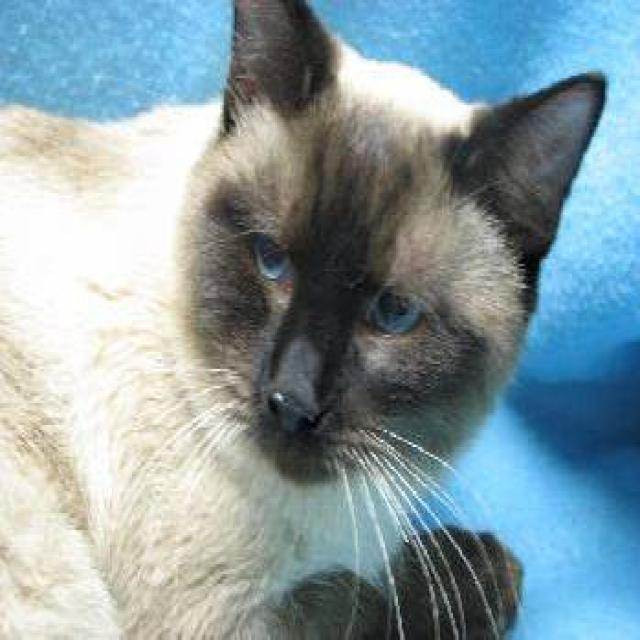cat: (0, 0, 607, 638)
